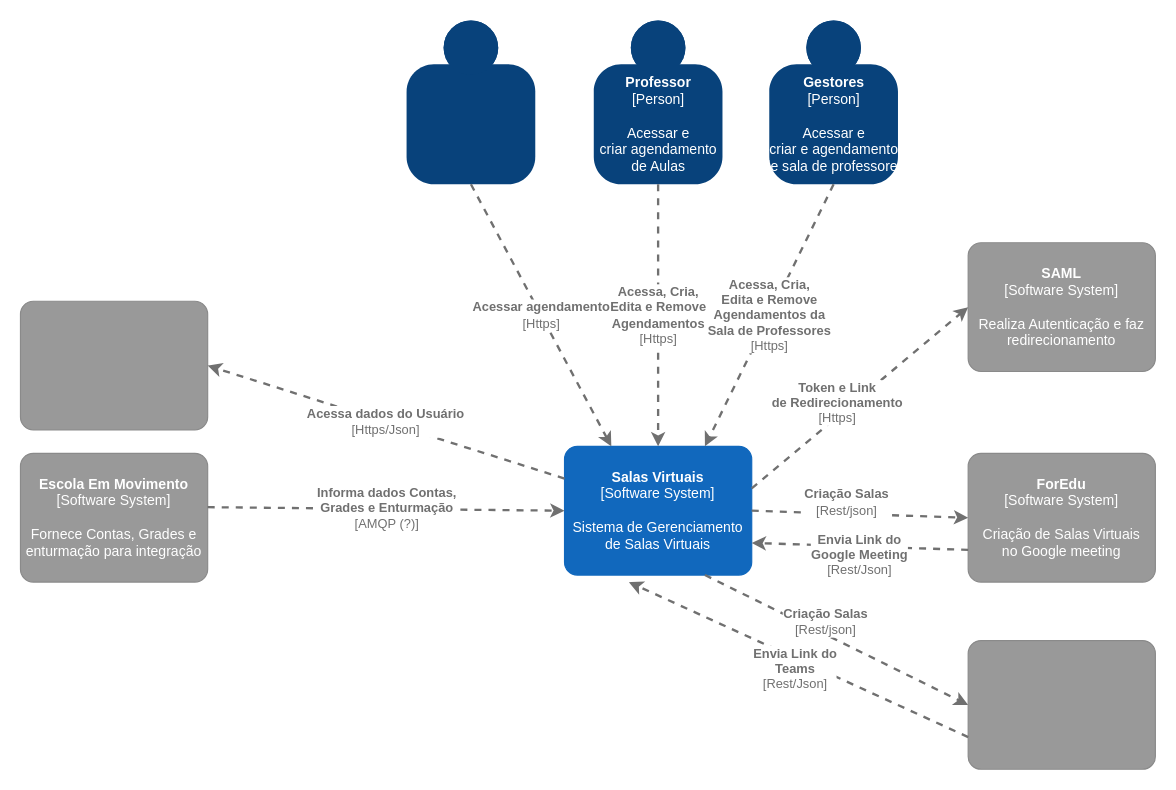
This 1176x790 diagram has some shape labels left out. The centre of each missing label's shape, as x and y in pixels:
Aluno [Person] Acessar os agendamentos de aula: pixel 470 102
Hub [Software System] Fornece informações do Perfil e da escola do Usuário: pixel 113 365
Microsoft Teams [Software System] Criação de Salas Virtuais no Teams: pixel 1061 704
